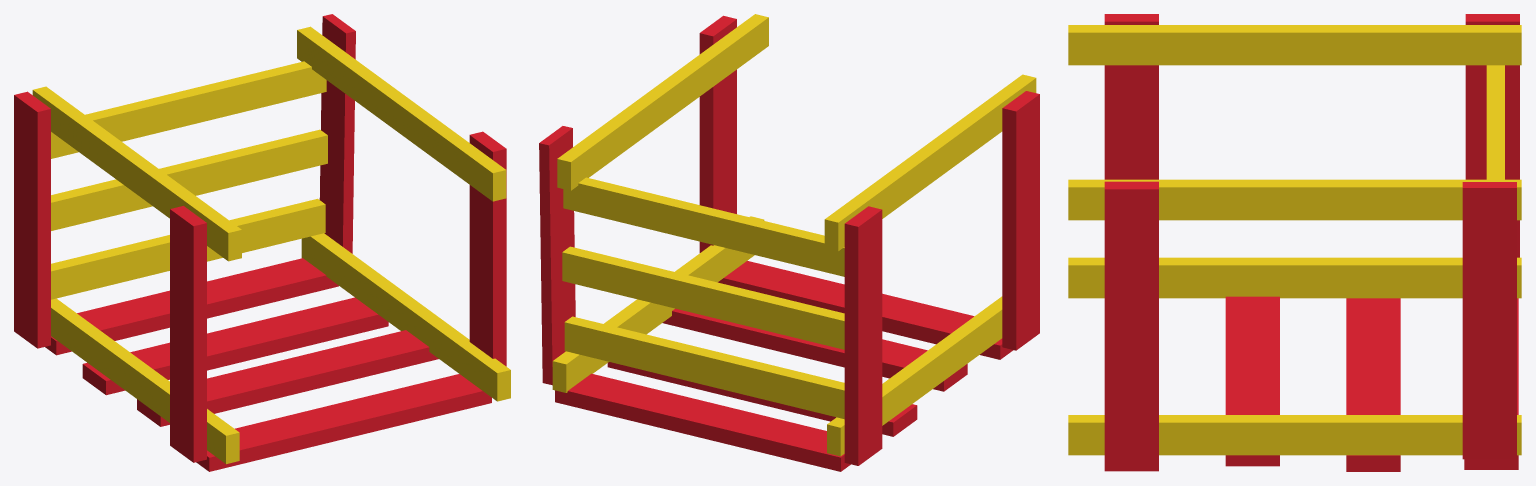
Rendered from tinker.obj.
3 renders of one model, left to right at view 1: azimuth 30°, elevation 25°; view 2: azimuth 150°, elevation 25°; view 3: azimuth 270°, elevation 25°, orthographic. The views are drawn at different scales.
Parts seen in each view (by area): view 1: group_0_15277357, group_0_16768282; view 2: group_0_16768282, group_0_15277357; view 3: group_0_16768282, group_0_15277357.
Part boxes in pixels (x1,y1,x2,y2): group_0_15277357: (14,14,506,471); group_0_16768282: (32,26,510,464); group_0_16768282: (552,14,1036,456); group_0_15277357: (539,15,1039,471); group_0_16768282: (1068,25,1521,455); group_0_15277357: (1104,14,1519,471).
Size of the model in its own units: 281 by 215 by 300.
